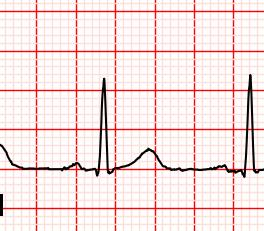LVH: (115, 144, 172, 171)
